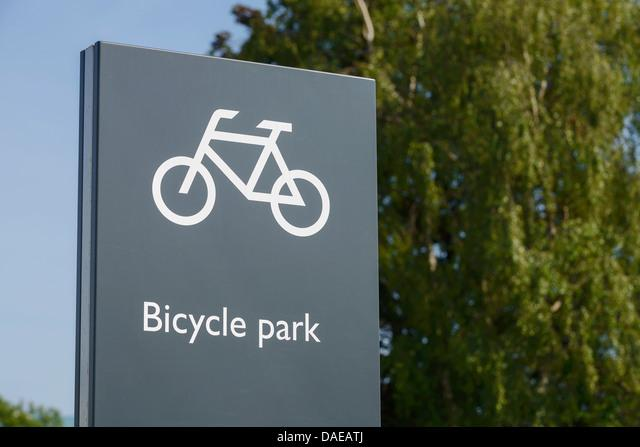Parking Lot Cycle: (105, 65, 353, 370)
